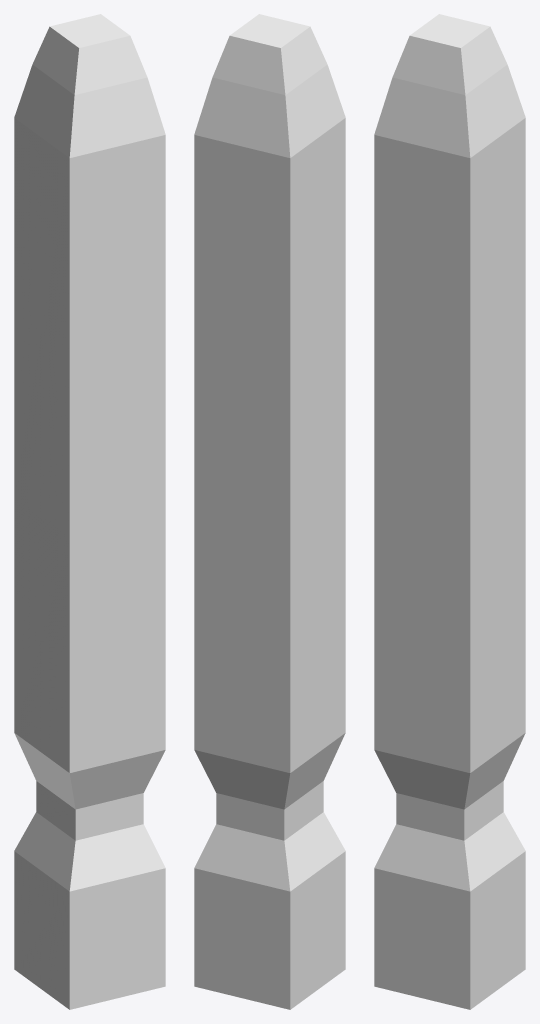
The model's file is player_Weapon.obj.
The picture shows the model from 3 angles, left to right: view 1: azimuth 30°, elevation 25°; view 2: azimuth 150°, elevation 25°; view 3: azimuth 330°, elevation 25°; orthographic projection.
Parts seen in each view (by area): view 1: 立方体.003; view 2: 立方体.003; view 3: 立方体.003.
Part boxes in pixels (x1,y1,x2,y2): 立方体.003: [14, 14, 165, 1009]; 立方体.003: [194, 14, 345, 1009]; 立方体.003: [374, 14, 525, 1009].
Size of the model in its own units: 0.7038 by 6.63 by 0.7038.
Materials: 1 (1 with a texture image).
